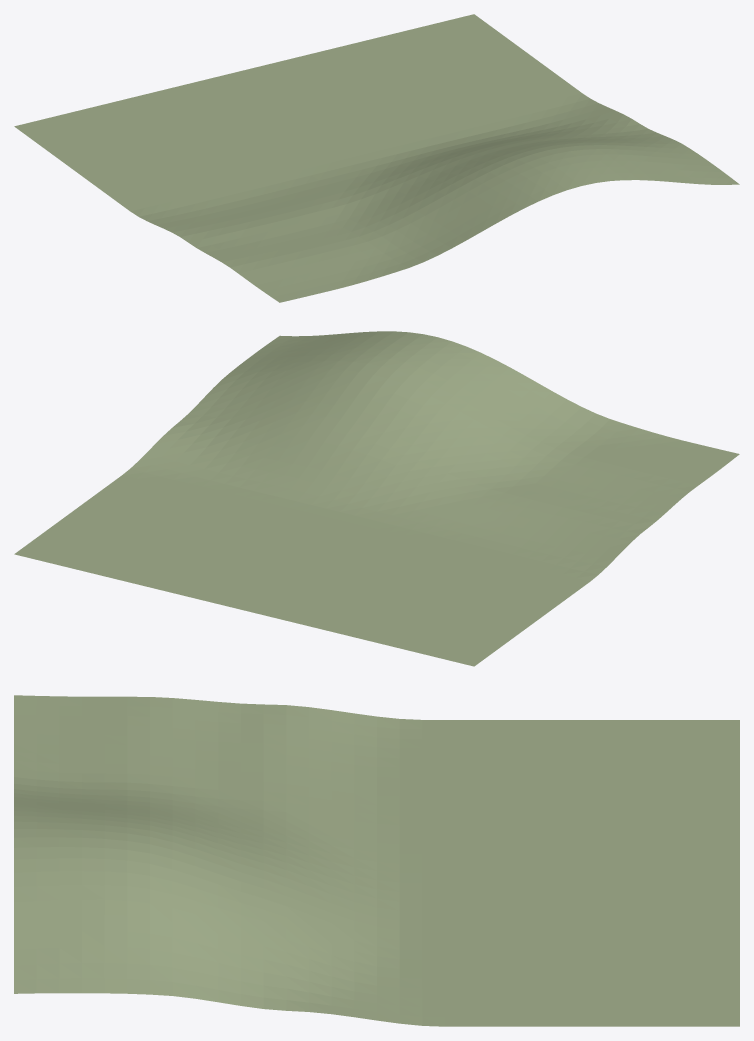
Rendered from coast-2-0.glb.
3 renders of one model, top to bottom at view 1: azimuth 30°, elevation 25°; view 2: azimuth 150°, elevation 25°; view 3: azimuth 270°, elevation 25°, orthographic. The views are drawn at different scales.
Parts seen in each view (by area): view 1: coast-2-0; view 2: coast-2-0; view 3: coast-2-0.
Boxes of the visible parts, x1,y1,x2,y2 form: coast-2-0: (14,14,739,302); coast-2-0: (14,331,739,666); coast-2-0: (14,695,739,1026).
Size of the model in its own units: 256 by 32.64 by 256.
